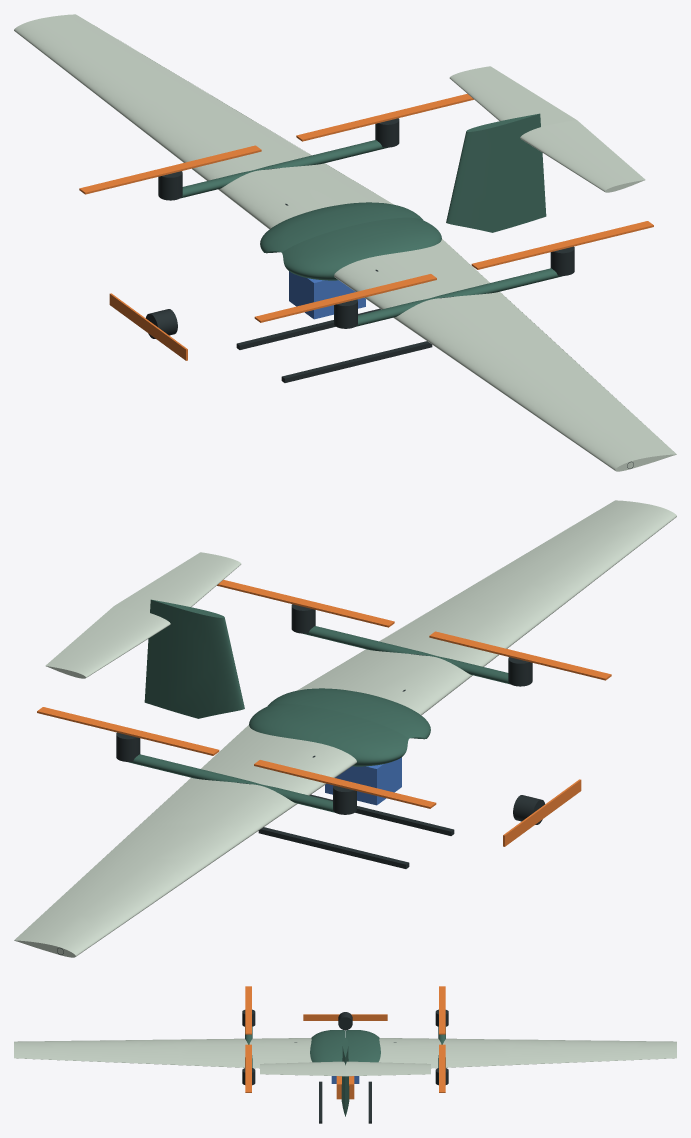
File: control-05-internal.glb
3 views of the same model, one above another, from view 1: azimuth 30°, elevation 25°; view 2: azimuth 150°, elevation 25°; view 3: azimuth 270°, elevation 25° (orthographic). The views are drawn at different scales.
Visible parts, largest first — view 1: wing-1, wing1, fin, root_fairing-1, tail-1, root_fairing1, tail1, boom_fairing-1, boom_fairing1, payload, prop_-1_200.0, prop_1_200.0 (+5 smaller); view 2: wing1, wing-1, fin, root_fairing1, tail1, root_fairing-1, tail-1, boom_fairing1, boom_fairing-1, payload, prop_-1_200.0, prop_1_200.0 (+5 smaller); view 3: wing-1, wing1, tail-1, tail1, root_fairing-1, root_fairing1, cruise_prop, fin, prop_-1_200.0, prop_-1_700.0, prop_1_200.0, prop_1_700.0 (+2 smaller).
Boxes of the visible parts, bbox=[...] form: wing-1: bbox=[334, 239, 676, 471]; wing1: bbox=[14, 14, 393, 229]; fin: bbox=[446, 113, 546, 232]; root_fairing-1: bbox=[282, 217, 441, 280]; tail-1: bbox=[520, 120, 645, 192]; root_fairing1: bbox=[260, 202, 422, 253]; tail1: bbox=[449, 66, 576, 126]; boom_fairing-1: bbox=[355, 268, 562, 326]; boom_fairing1: bbox=[180, 140, 387, 198]; payload: bbox=[289, 271, 365, 319]; prop_-1_200.0: bbox=[254, 274, 436, 322]; prop_1_200.0: bbox=[79, 145, 261, 194]; wing1: bbox=[14, 725, 356, 957]; wing-1: bbox=[297, 500, 676, 715]; fin: bbox=[144, 599, 244, 718]; root_fairing1: bbox=[249, 703, 408, 766]; tail1: bbox=[45, 606, 170, 678]; root_fairing-1: bbox=[268, 688, 430, 739]; tail-1: bbox=[114, 552, 241, 612]; boom_fairing1: bbox=[128, 754, 335, 812]; boom_fairing-1: bbox=[303, 626, 510, 684]; payload: bbox=[325, 757, 401, 805]; prop_-1_200.0: bbox=[429, 631, 611, 680]; prop_1_200.0: bbox=[254, 760, 436, 808]; wing-1: bbox=[14, 1038, 311, 1068]; wing1: bbox=[379, 1038, 676, 1068]; tail-1: bbox=[260, 1061, 345, 1076]; tail1: bbox=[345, 1061, 430, 1076]; root_fairing-1: bbox=[310, 1030, 345, 1062]; root_fairing1: bbox=[345, 1030, 380, 1062]; cruise_prop: bbox=[303, 1014, 387, 1020]; fin: bbox=[341, 1038, 349, 1116]; prop_-1_200.0: bbox=[245, 986, 251, 1034]; prop_-1_700.0: bbox=[245, 1044, 251, 1092]; prop_1_200.0: bbox=[439, 986, 445, 1034]; prop_1_700.0: bbox=[439, 1044, 445, 1092].
Size of the model in its own units: 989 by 405 by 2400.
